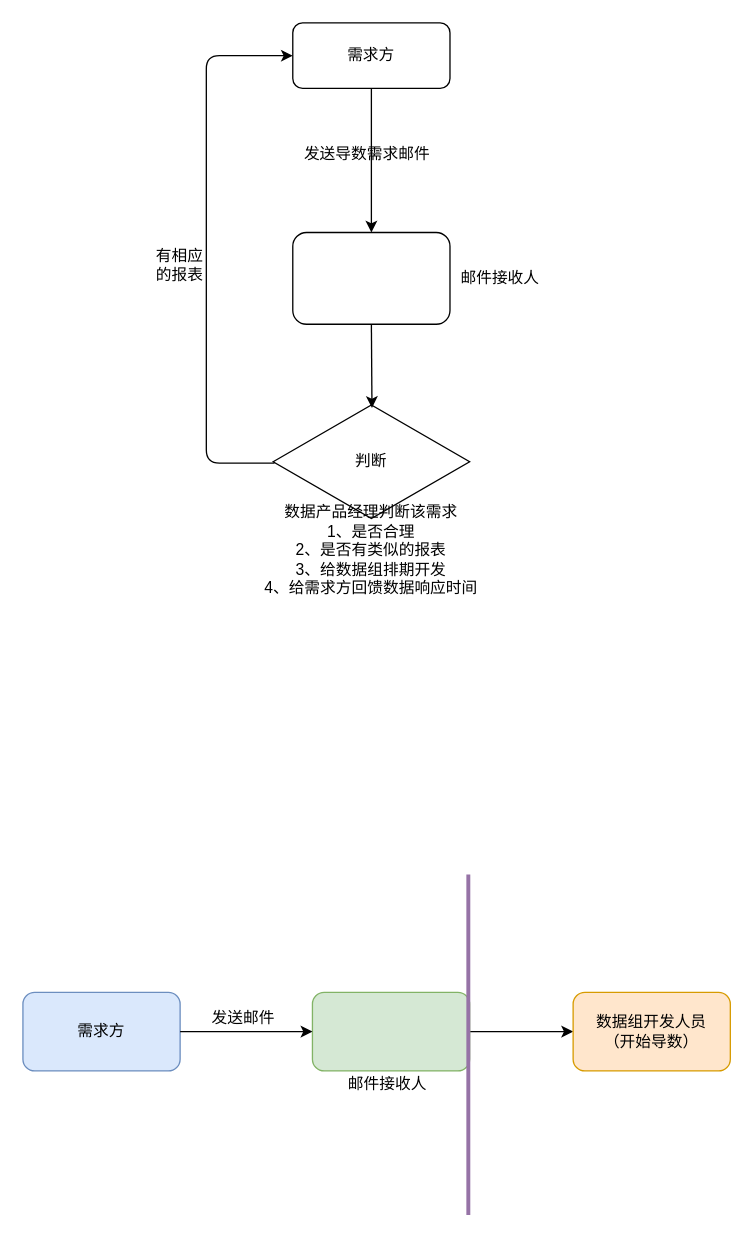
The diagram is 753 pixels wide and 1241 high, and some of its shapes have lost their labels. Here are the shapes that lost their labels. From the top down, the centre of each, then its label:
At pixel 370 277: "数据部门领导 数据产品经理 数据组开发人员 需求方相应知会领导".
At pixel 390 1031: "数据组产品经理 数据组领导 数据组开发人员 需求需要知会人".
